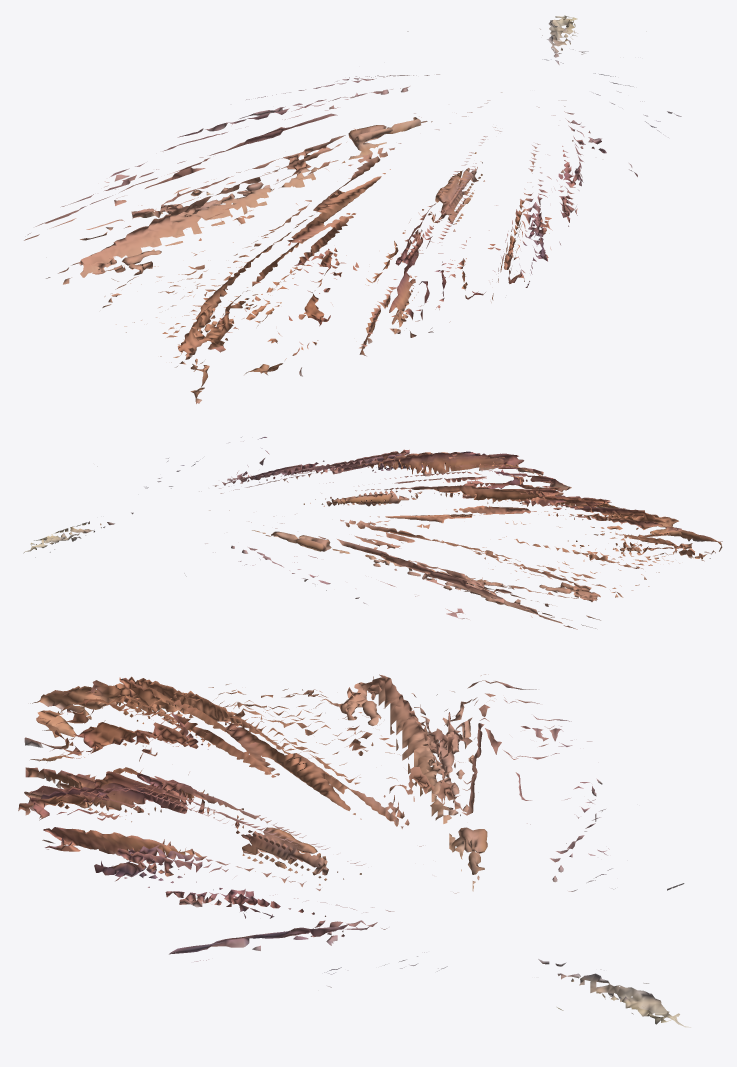
File: world-1769775230535.glb
The picture shows the model from 3 angles, top to bottom: view 1: azimuth 30°, elevation 25°; view 2: azimuth 150°, elevation 25°; view 3: azimuth 270°, elevation 25°; orthographic projection. The views are drawn at different scales.
Visible parts, largest first — view 1: world; view 2: world; view 3: world.
Boxes of the visible parts, left/top/right/bottom form: world: left=24, top=15, right=681, bottom=403; world: left=23, top=437, right=722, bottom=629; world: left=18, top=674, right=690, bottom=1027.
Size of the model in its own units: 187 by 19.43 by 137.
